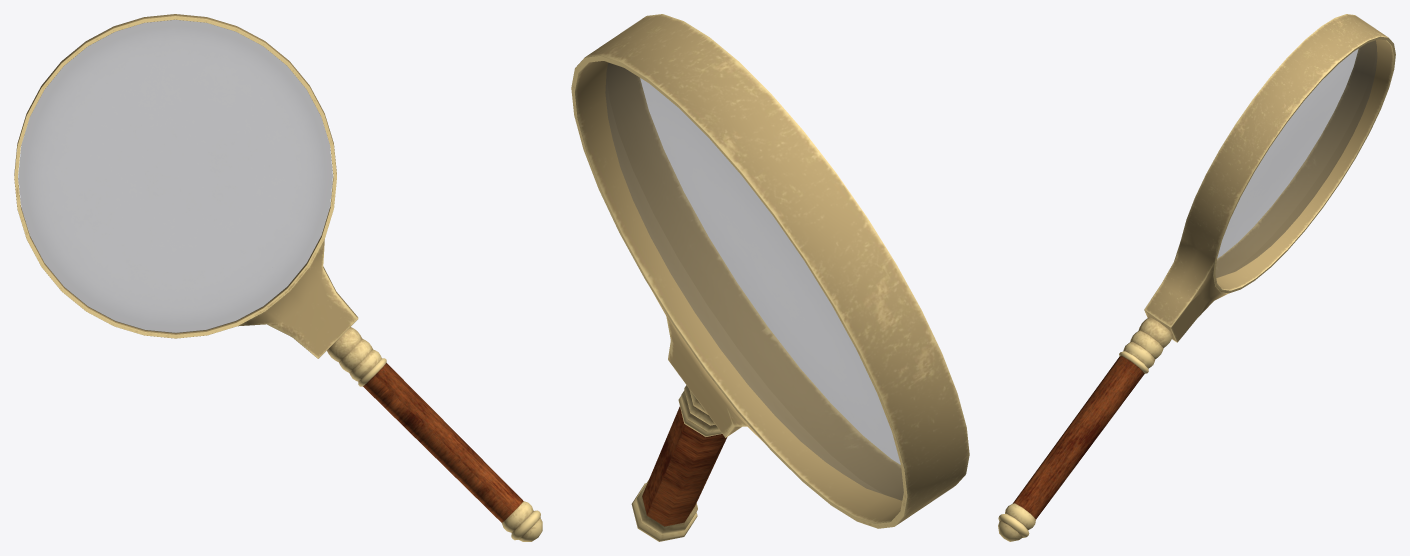
The model's file is magnifier.glb.
The picture shows the model from 3 angles, left to right: view 1: azimuth 30°, elevation 25°; view 2: azimuth 150°, elevation 25°; view 3: azimuth 270°, elevation 25°; orthographic projection. The views are drawn at different scales.
Parts seen in each view (by area): view 1: glass_0; view 2: glass_0; view 3: glass_0.
Part boxes in pixels (x1=…): glass_0: x1=14, y1=14, x2=542, y2=541; glass_0: x1=571, y1=14, x2=969, y2=541; glass_0: x1=998, y1=14, x2=1395, y2=541.
Size of the model in its own units: 2.59 by 3.16 by 2.67.
1 material, 1 textured.
